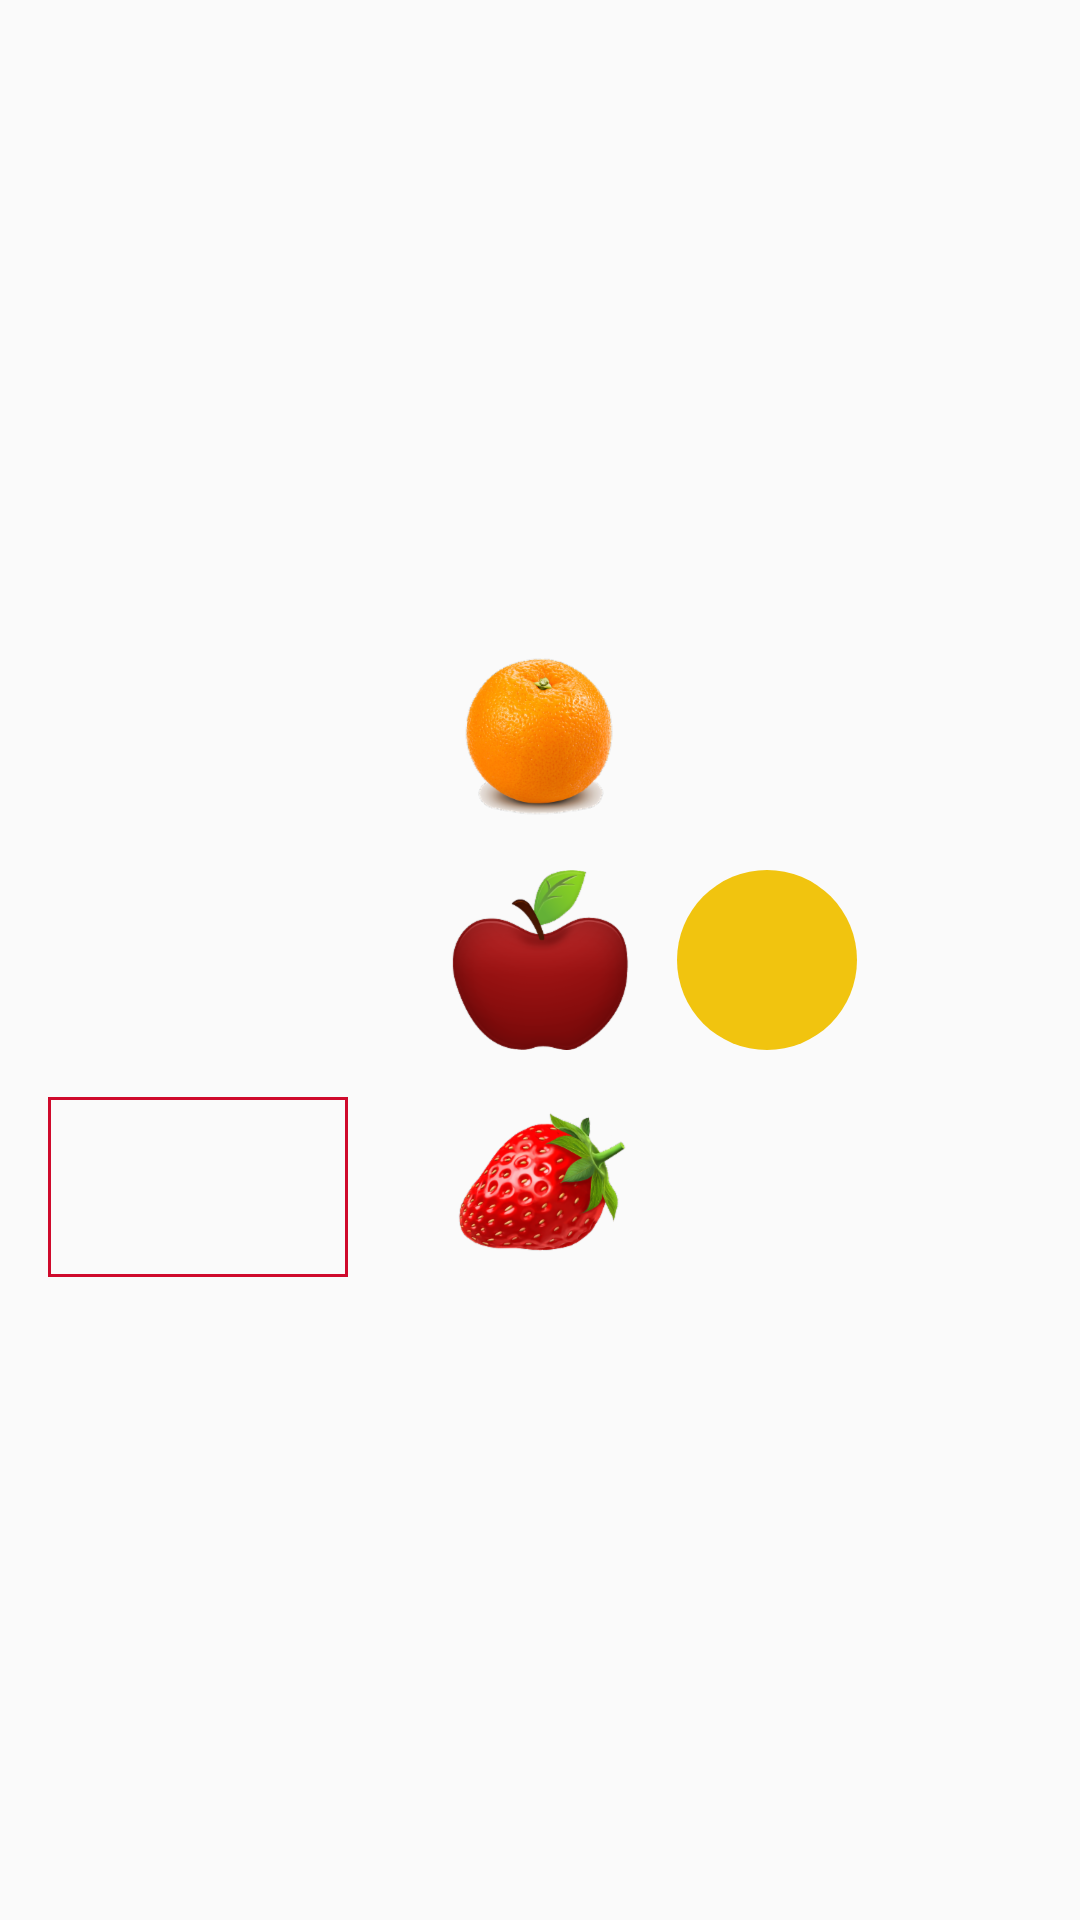

Where icons sit on this 1080 × 1920 app screen, as box=[x1, y1, x2, y2]:
apple: box=[452, 870, 628, 1050]
strawberry: box=[459, 1113, 625, 1251]
